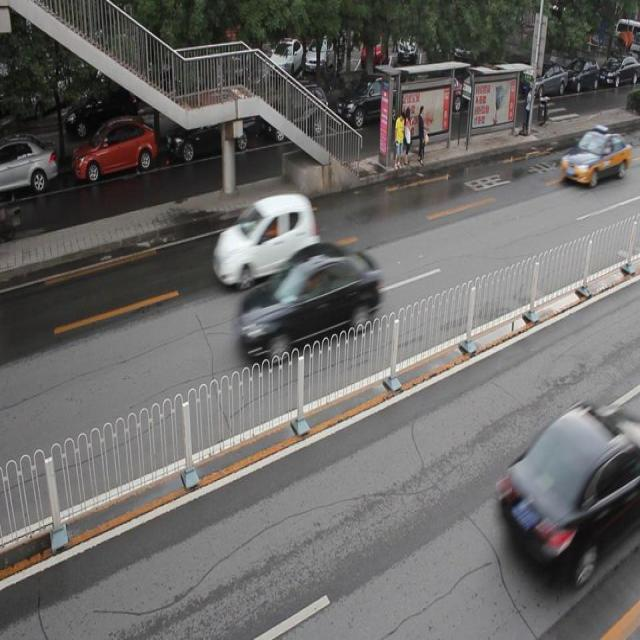car: (495, 405, 640, 582), (239, 244, 378, 358), (212, 194, 316, 288), (167, 88, 256, 156), (74, 119, 158, 184), (558, 126, 628, 185), (336, 72, 405, 129), (264, 83, 329, 142), (1, 136, 58, 196)
